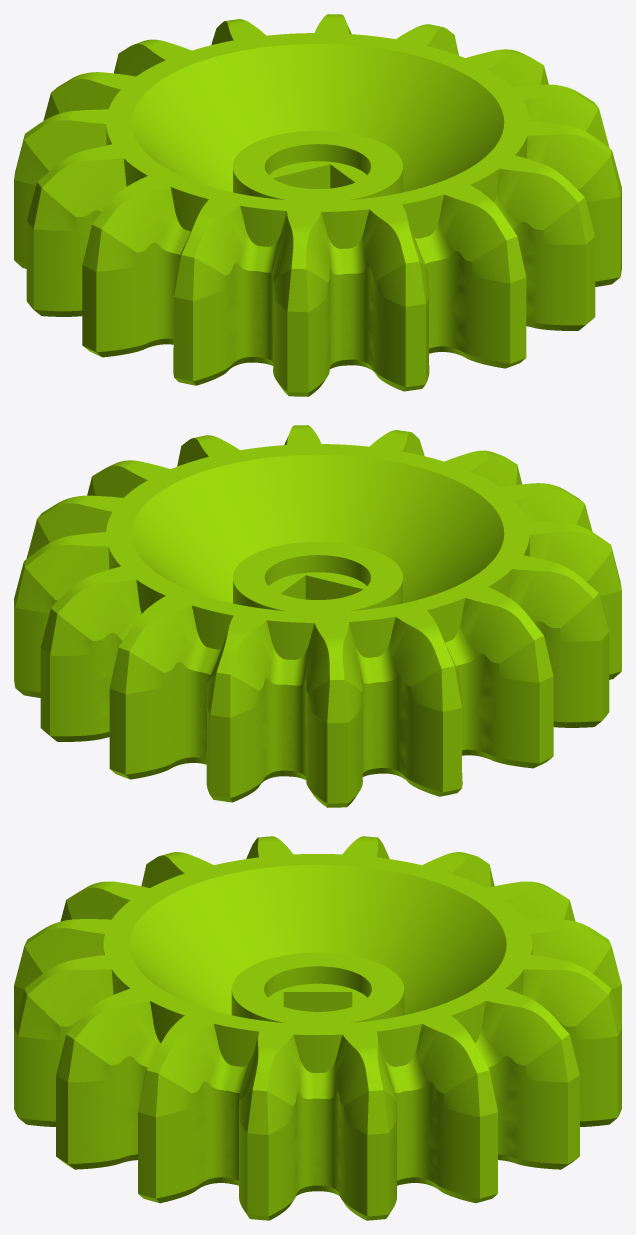
The picture shows the model from 3 angles, top to bottom: view 1: azimuth 30°, elevation 25°; view 2: azimuth 150°, elevation 25°; view 3: azimuth 270°, elevation 25°; orthographic projection.
Visible parts, largest first — view 1: 228-2500-2181; view 2: 228-2500-2181; view 3: 228-2500-2181.
Boxes of the visible parts, x1=… form: 228-2500-2181: x1=14, y1=14, x2=621, y2=396; 228-2500-2181: x1=14, y1=425, x2=621, y2=807; 228-2500-2181: x1=14, y1=836, x2=621, y2=1220.
Size of the model in its own units: 0.0282 by 0.00864 by 0.0282.
